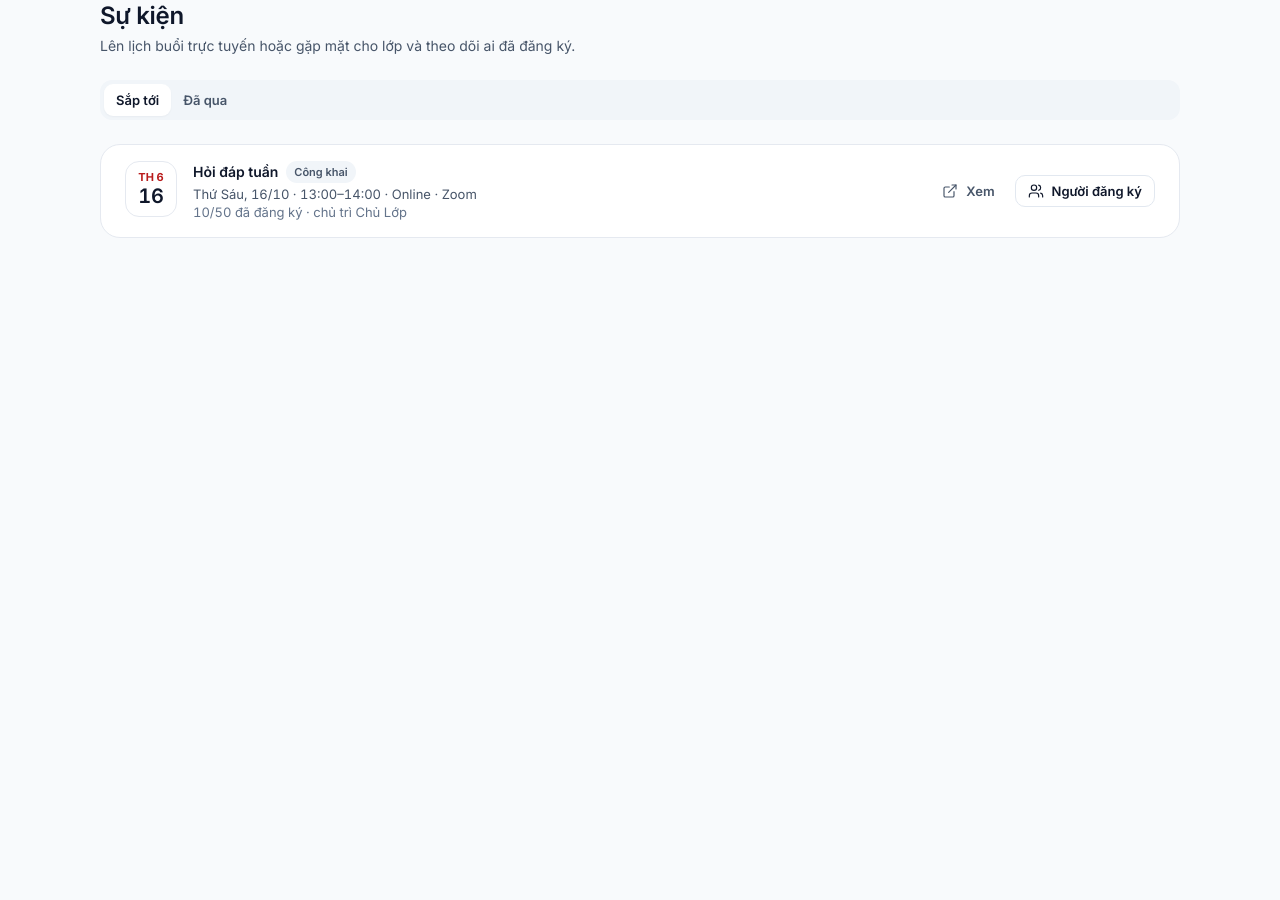
Scenario: StudioEvents › EVENT:VIEW only: sees the list and the registrants, but cannot create / edit / cancel / delete
Check: the text "Hỏi đáp tuần" is shown, box [193, 162, 278, 182]
What coordinates should you click on to do the following:
click the button with aria-label "Người đăng ký Hỏi đáp tuần"
I would click on:
 (1085, 191)
Its box is [1015, 175, 1155, 207].
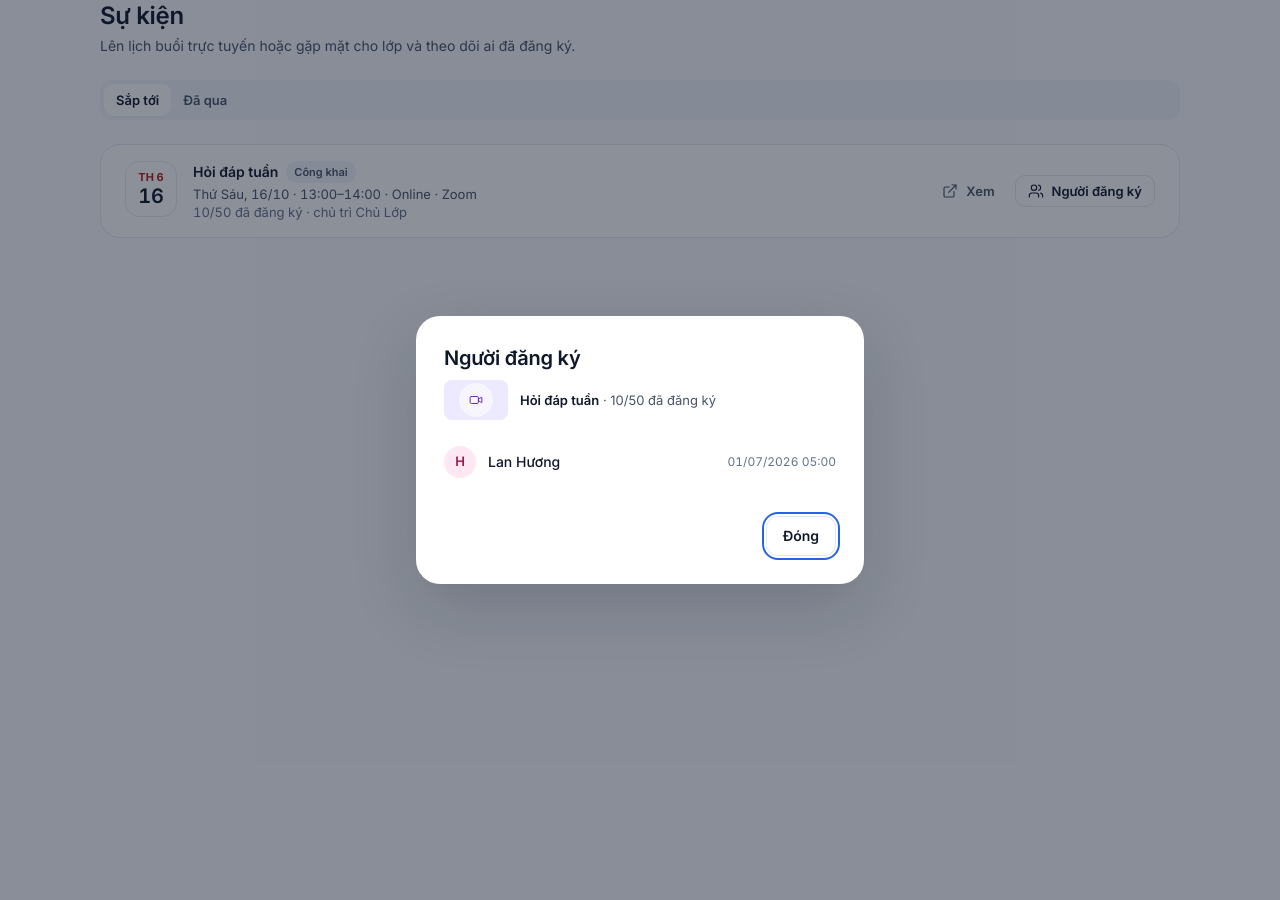
Check: the text "Lan Hương" is shown, box [488, 453, 560, 470]
